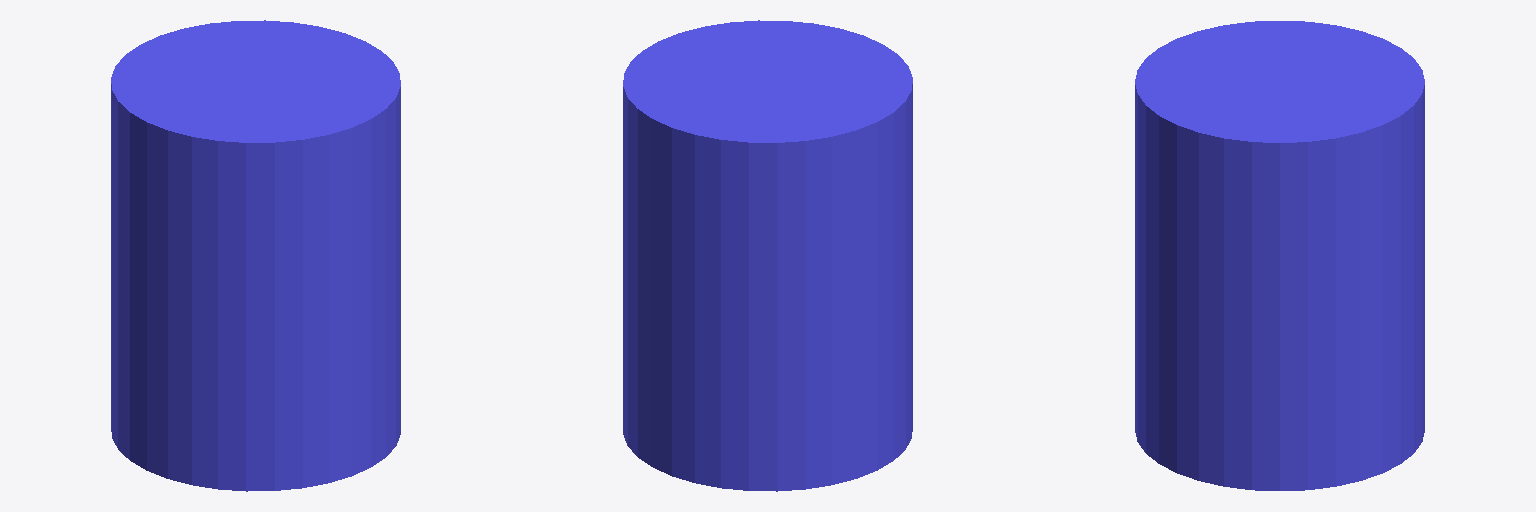
robot.urdf — cylinder:
<robot name="cylinder">
  <link name="cylinder_link">
    <inertial>
      <origin xyz="0 0 0" rpy="0 0 0"/>
      <mass value="0.1" />
      <inertia  ixx="0.00003375" ixy="0.0"  ixz="0.0"  iyy="0.00003375"  iyz="0.0"  izz="0.00003375" />
    </inertial>

    <visual>
      <origin xyz="0 0 0" rpy="0 0 0"/>
      <geometry>
        <cylinder length="0.045" radius="0.017"/>
      </geometry>
      <material name="purple">
        <color rgba="0.4 0.4 1.0 1.0"/>
      </material>
    </visual>

    <collision>
      <origin xyz="0 0 0" rpy="0 0 0"/>
      <geometry>
        <cylinder length="0.045" radius="0.017"/>
      </geometry>
    </collision>
  </link>
</robot>

--- What the picture shows (computed from the rendered views, not written in the file) ---
The picture shows the robot from 3 angles, left to right: view 1: azimuth 30°, elevation 25°; view 2: azimuth 150°, elevation 25°; view 3: azimuth 270°, elevation 25°; orthographic projection.
Robot: cylinder — 1 links, 0 joints (none); root link cylinder_link; default pose: all joints at 0.
Visible links, largest first — view 1: cylinder_link; view 2: cylinder_link; view 3: cylinder_link.
Link boxes in pixels (x1,y1,x2,y2): cylinder_link: (111, 20, 400, 491); cylinder_link: (623, 20, 912, 491); cylinder_link: (1135, 21, 1424, 490).
Size in the robot's own frame: 0.034 by 0.034 by 0.045 metres.
Geometry: primitives only (box / cylinder / sphere), no mesh files.